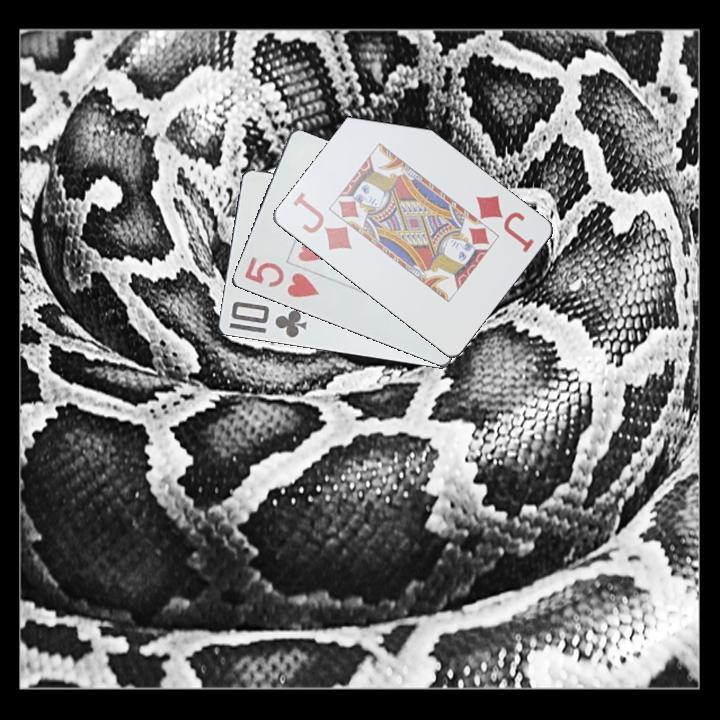5h: (241, 253, 322, 301)
Jd: (288, 189, 355, 253), (472, 191, 537, 256)
Tc: (227, 298, 310, 341)
